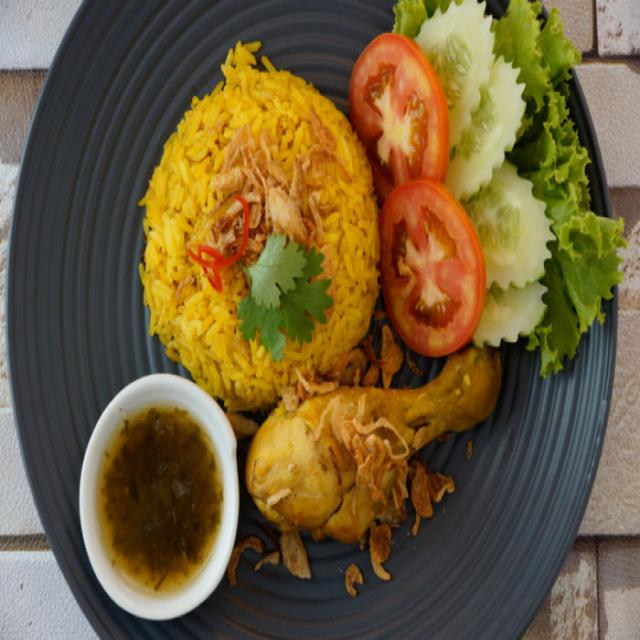Carbohydrate: (143, 38, 376, 394)
Kaow-Mokkai: (7, 1, 640, 640)
Protein: (251, 344, 502, 569)
Vegetable: (342, 0, 628, 376)
